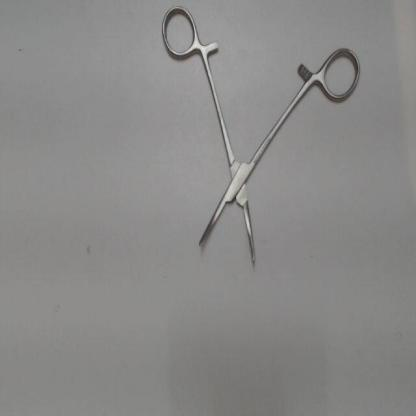Crile Artery Forceps: (156, 1, 364, 270)
